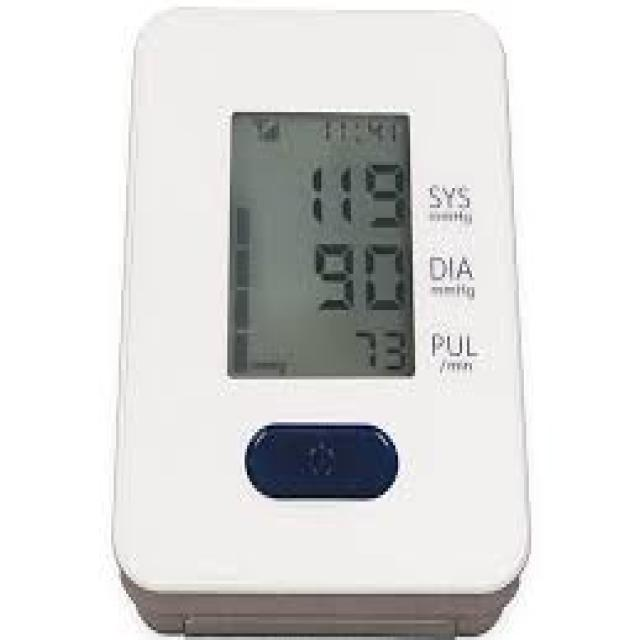dia: (307, 237, 411, 318)
pul: (347, 323, 413, 382)
ssd: (225, 109, 416, 379)
sys: (296, 155, 408, 232)
